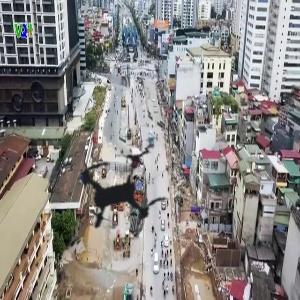drone: (26, 102, 215, 291)
